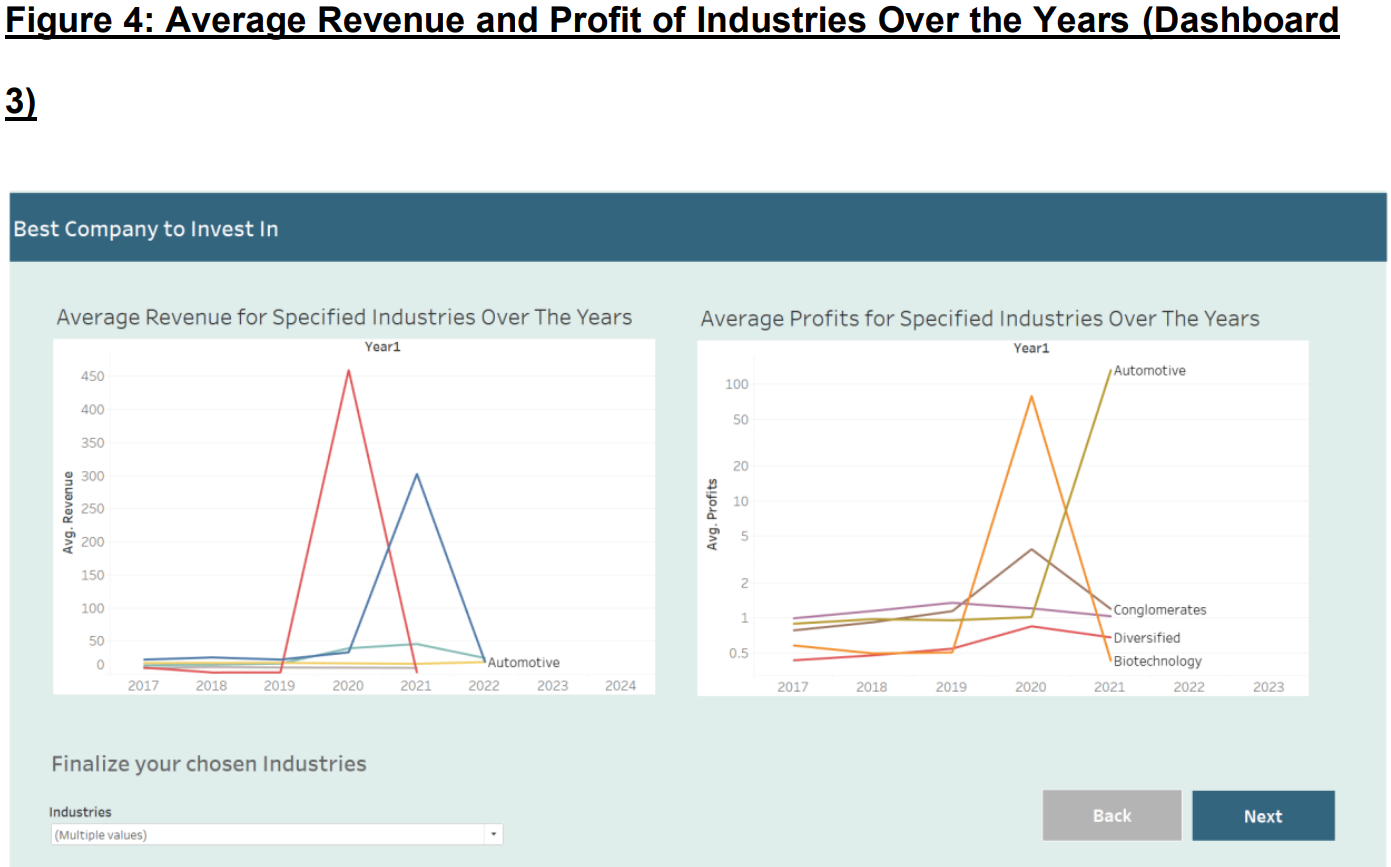

The page's visual inventory and layout, read from the dashboard file:
{"tool":"tableau","page":{"name":"Yearly Analysis","canvas":[1000,1000],"units":"permille","ordinal":3},"visuals":[{"type":"text","box":[2.1,7,996.3,99.9]},{"type":"text","box":[29.3,105.1,930.8,865.5]},{"type":"worksheet","title":"AVG Revenue for specified industries over the years","mark":"Automatic","rows":["Revenue"],"cols":["Year"],"box":[33.1,146.7,438,537.9]},{"type":"worksheet","title":"AVG Profit for Specified Industries","mark":"Automatic","rows":["Profits"],"cols":["Year"],"box":[496.3,150.4,438.3,537.9]},{"type":"text","box":[31.9,685.8,279.1,172.4]},{"type":"dashboard-object","box":[747.9,808.1,101.2,69.7]},{"type":"dashboard-object","box":[856.4,809.3,102.5,67.2]},{"type":"filter","title":"Filter Industry","param":"[federated.0ac9r150mvou991alsuss1d6bpmn].[none:Industry:nk]","box":[30.1,821.5,333.1,85.6]},{"type":"dashboard-object","box":[414.6,855.8,124.7,45.2]}]}

Visuals, with their boxes on the dashboard's canvas, which has no fixed pixel size, in thousandths of its width and height (x1, y1, x2, y2). These are canvas units, not pixel positions in the 1391x867 screenshot, which may show the page scaled, cropped or inside an application window:
text: BBox(2, 7, 998, 107)
text: BBox(29, 105, 960, 971)
"AVG Revenue for specified industries over the years" worksheet: BBox(33, 147, 471, 685)
"AVG Profit for Specified Industries" worksheet: BBox(496, 150, 935, 688)
text: BBox(32, 686, 311, 858)
dashboard-object: BBox(748, 808, 849, 878)
dashboard-object: BBox(856, 809, 959, 876)
"Filter Industry" filter: BBox(30, 822, 363, 907)
dashboard-object: BBox(415, 856, 539, 901)
